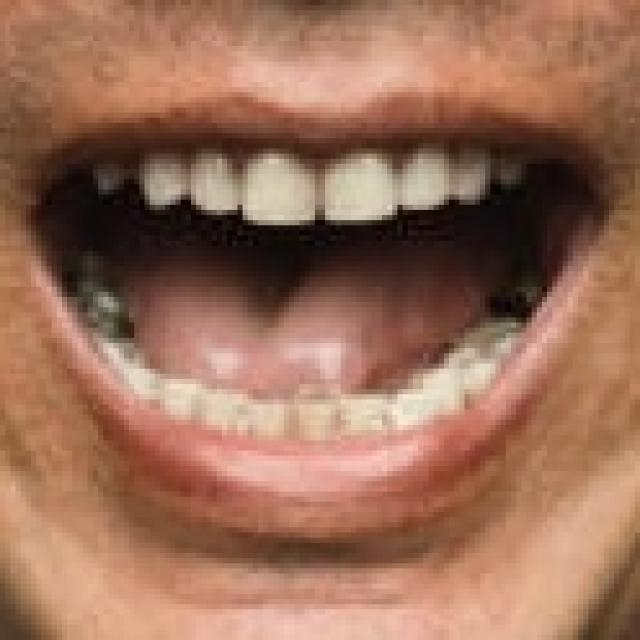open-mouth: (16, 92, 620, 543)
